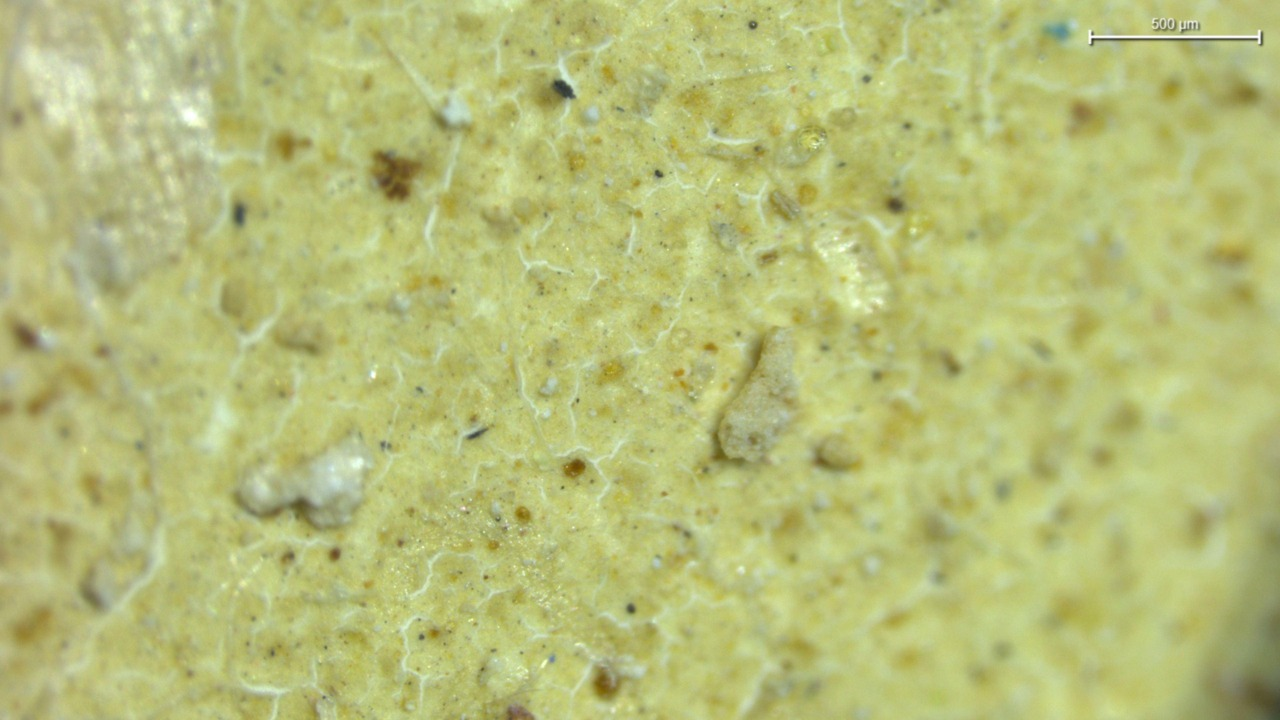microplastic_fragment: (237, 436, 373, 528), (717, 329, 797, 462), (814, 433, 862, 469), (437, 95, 471, 129)
